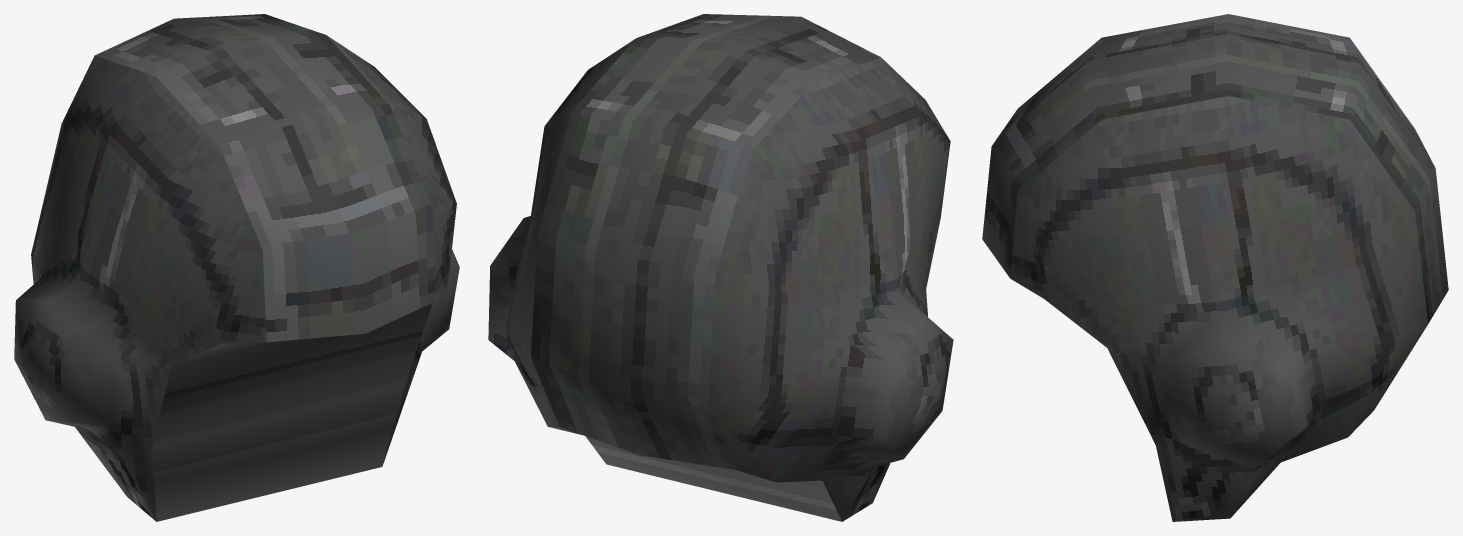
File: IR_TankDriverHat.glb
The picture shows the model from 3 angles, left to right: view 1: azimuth 30°, elevation 25°; view 2: azimuth 150°, elevation 25°; view 3: azimuth 270°, elevation 25°; orthographic projection. The views are drawn at different scales.
Visible parts, largest first — view 1: IR_TANKDRIVERHAT; view 2: IR_TANKDRIVERHAT; view 3: IR_TANKDRIVERHAT.
Part boxes in pixels (x1,y1,x2,y2): IR_TANKDRIVERHAT: [14, 14, 459, 521]; IR_TANKDRIVERHAT: [488, 14, 953, 521]; IR_TANKDRIVERHAT: [982, 14, 1448, 521].
Bounding box in the file's own units: 0.258 × 0.253 × 0.25.
1 material, 1 textured.
